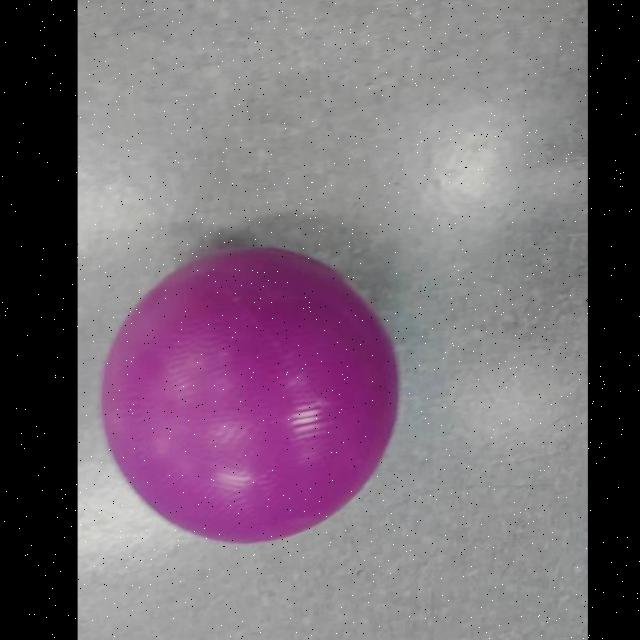P: (97, 244, 411, 552)
